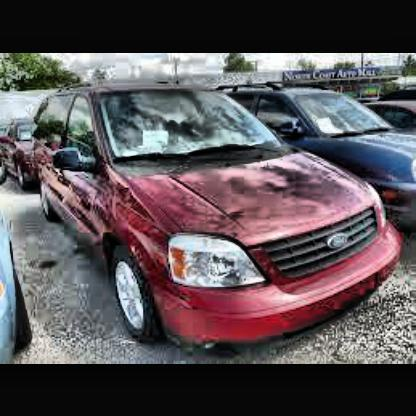Ford Freestar Minivan 2007: (33, 80, 404, 340)
